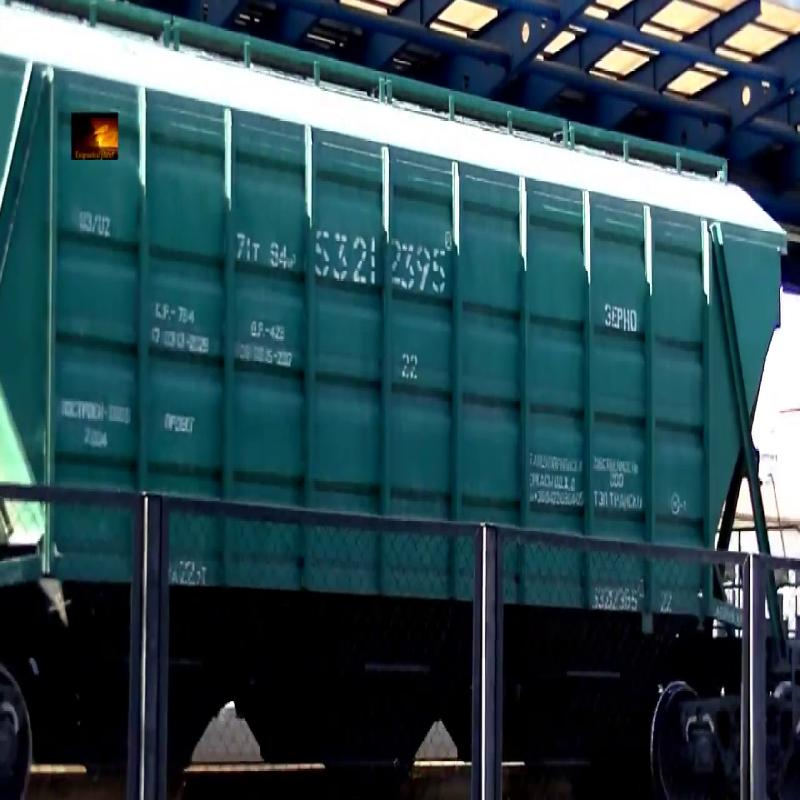train: (1, 6, 789, 725)
